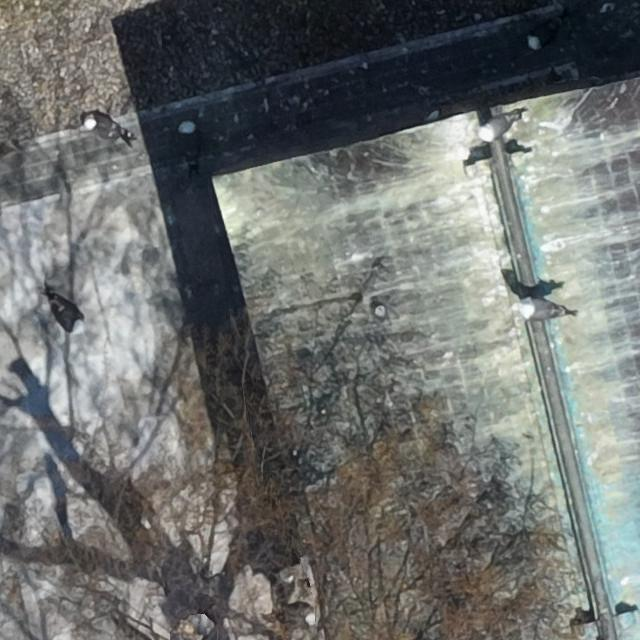umineko: (50, 299, 84, 330), (84, 117, 119, 137), (479, 118, 510, 138), (524, 301, 557, 317), (530, 31, 552, 49)
